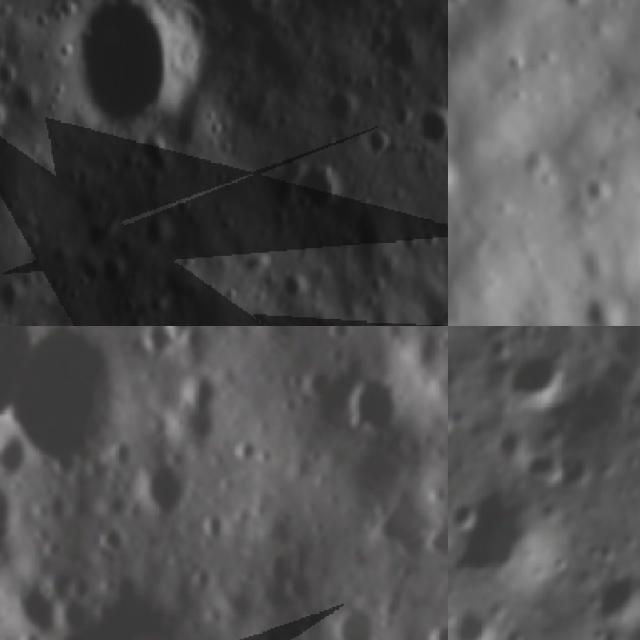crater: (52, 0, 219, 142), (0, 326, 147, 487), (322, 351, 416, 450), (120, 444, 208, 531), (0, 563, 76, 640), (502, 342, 572, 419), (282, 158, 344, 228), (317, 590, 388, 640), (594, 574, 640, 640), (0, 475, 32, 564), (129, 208, 183, 256), (568, 287, 634, 326), (315, 84, 368, 130), (292, 357, 339, 408), (0, 428, 39, 485), (409, 97, 448, 151), (522, 448, 567, 492), (272, 268, 321, 304), (357, 124, 397, 164), (448, 496, 487, 537), (448, 604, 489, 640), (500, 43, 540, 79), (448, 138, 470, 203), (148, 326, 199, 352), (487, 425, 524, 458), (310, 326, 356, 350), (0, 59, 25, 96), (418, 612, 448, 640), (623, 374, 640, 415), (0, 96, 15, 142), (448, 402, 459, 440)
